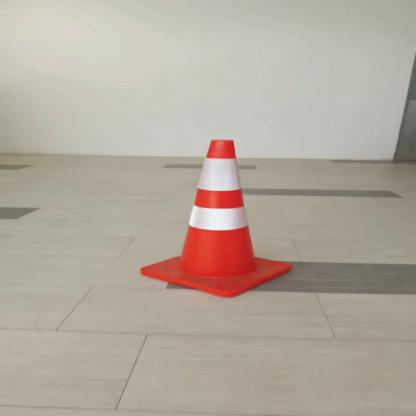cone: (135, 136, 304, 300)
